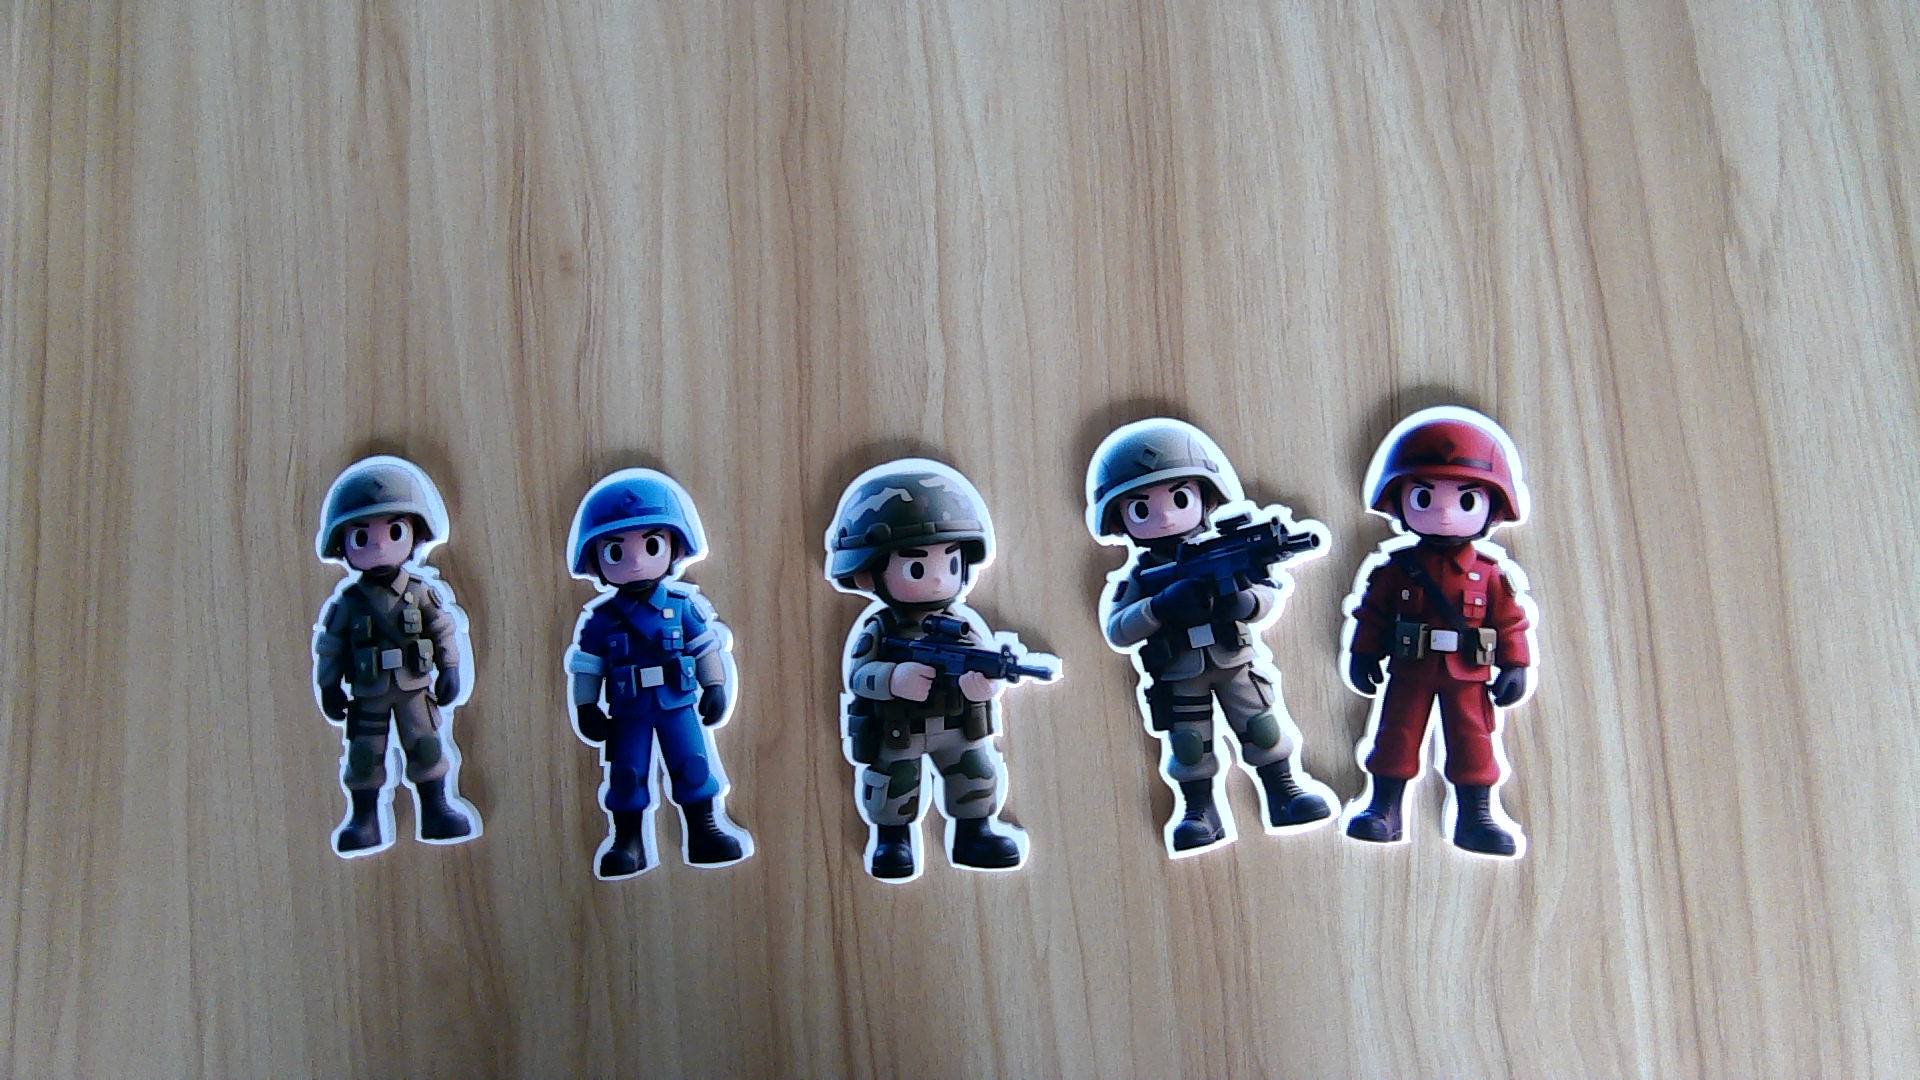友军: (1091, 546, 1335, 858), (829, 609, 1062, 887), (309, 576, 485, 858)
敌人1: (1340, 539, 1552, 862)
敌人2: (560, 588, 761, 880)
